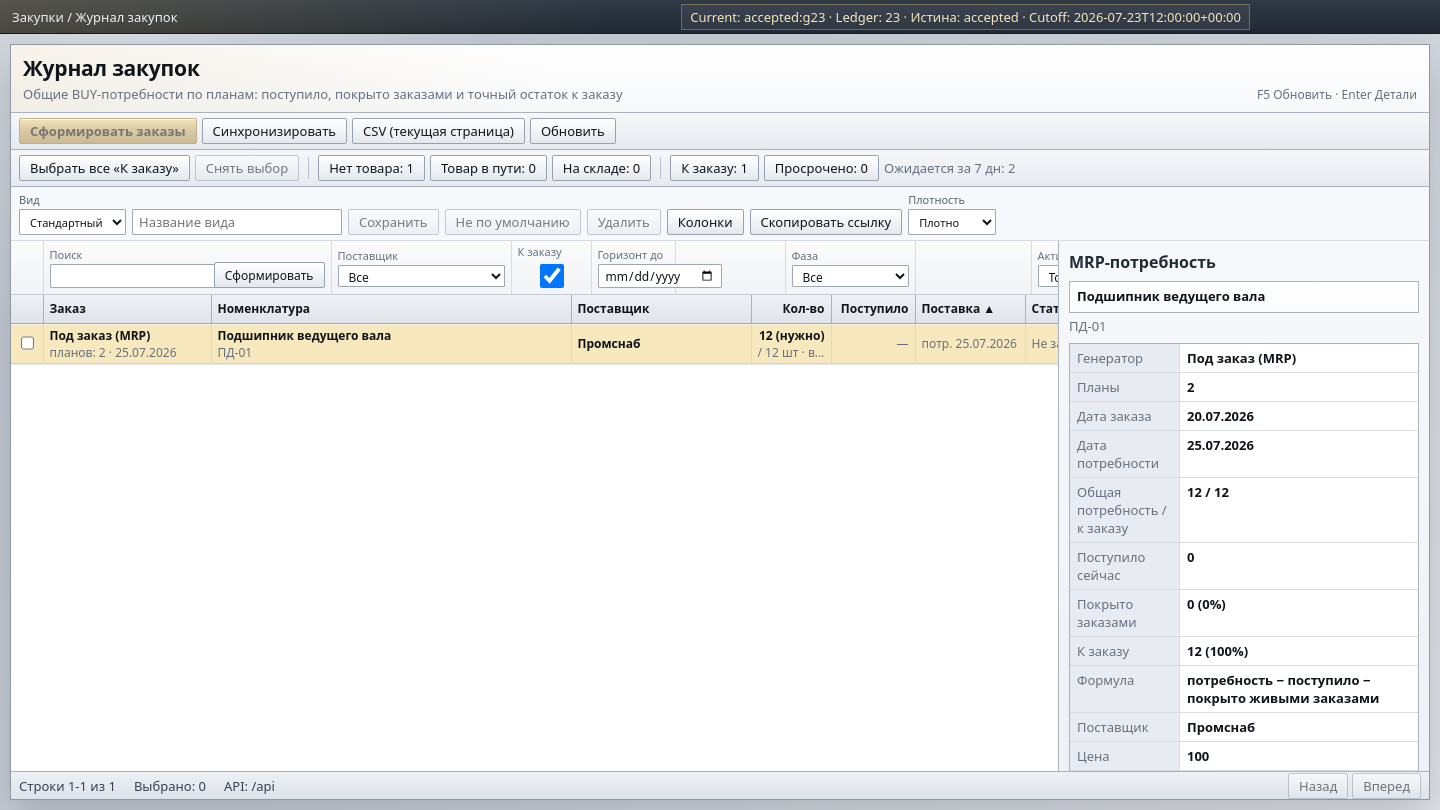
it: PurchaseControlPage Doctype migration › does not report materialization as complete when 1C readback fails
The width and height of the screenshot is (1440, 810).
Step 1. Click the checkbox named "Выбрать строку buy:9:default" → (28, 343), box [21,331,34,355]
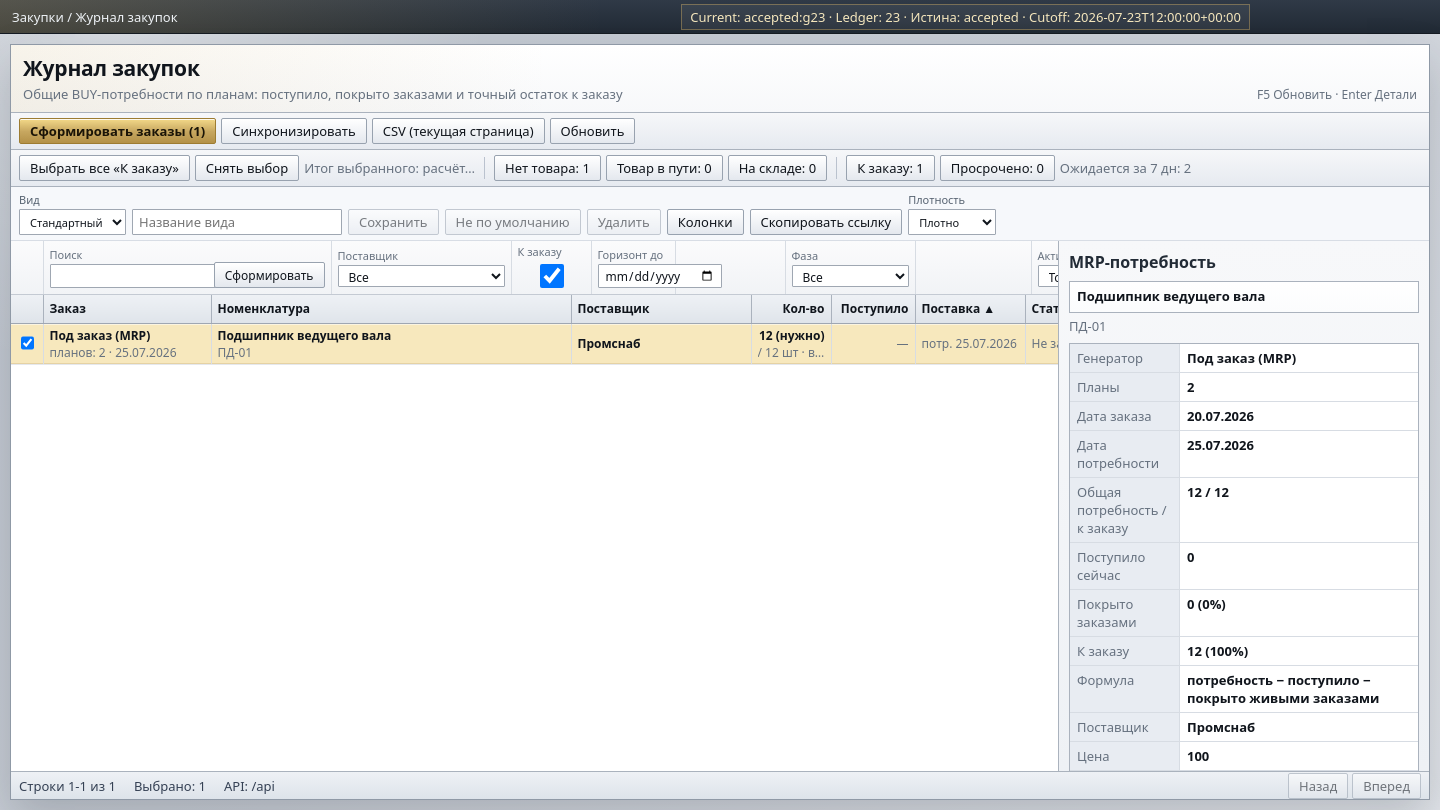
Step 2. Click the button "Сформировать заказы (1)" → (118, 131), box [19,118,216,144]
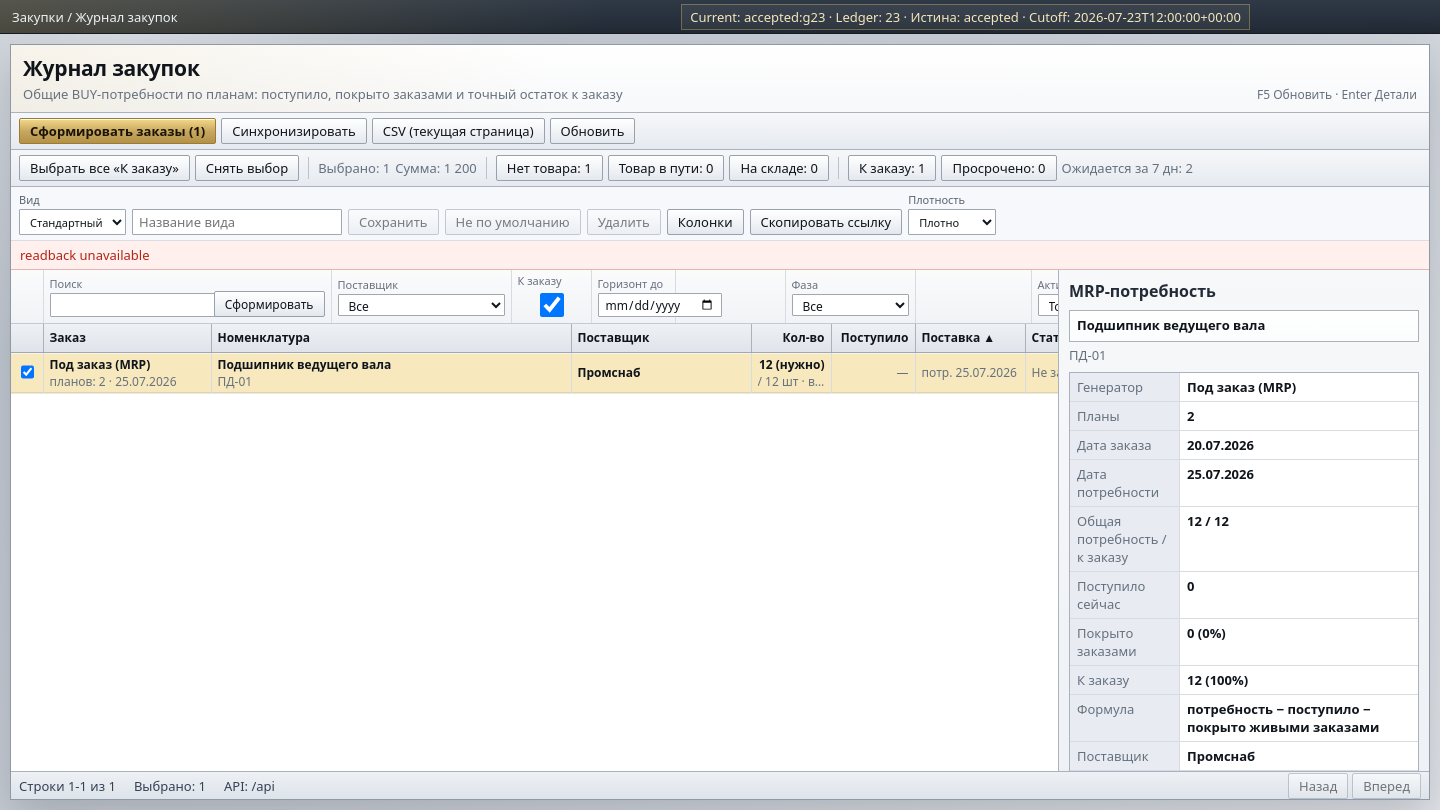
Expected: the text "readback unavailable" is shown, [11,241,1429,270]
